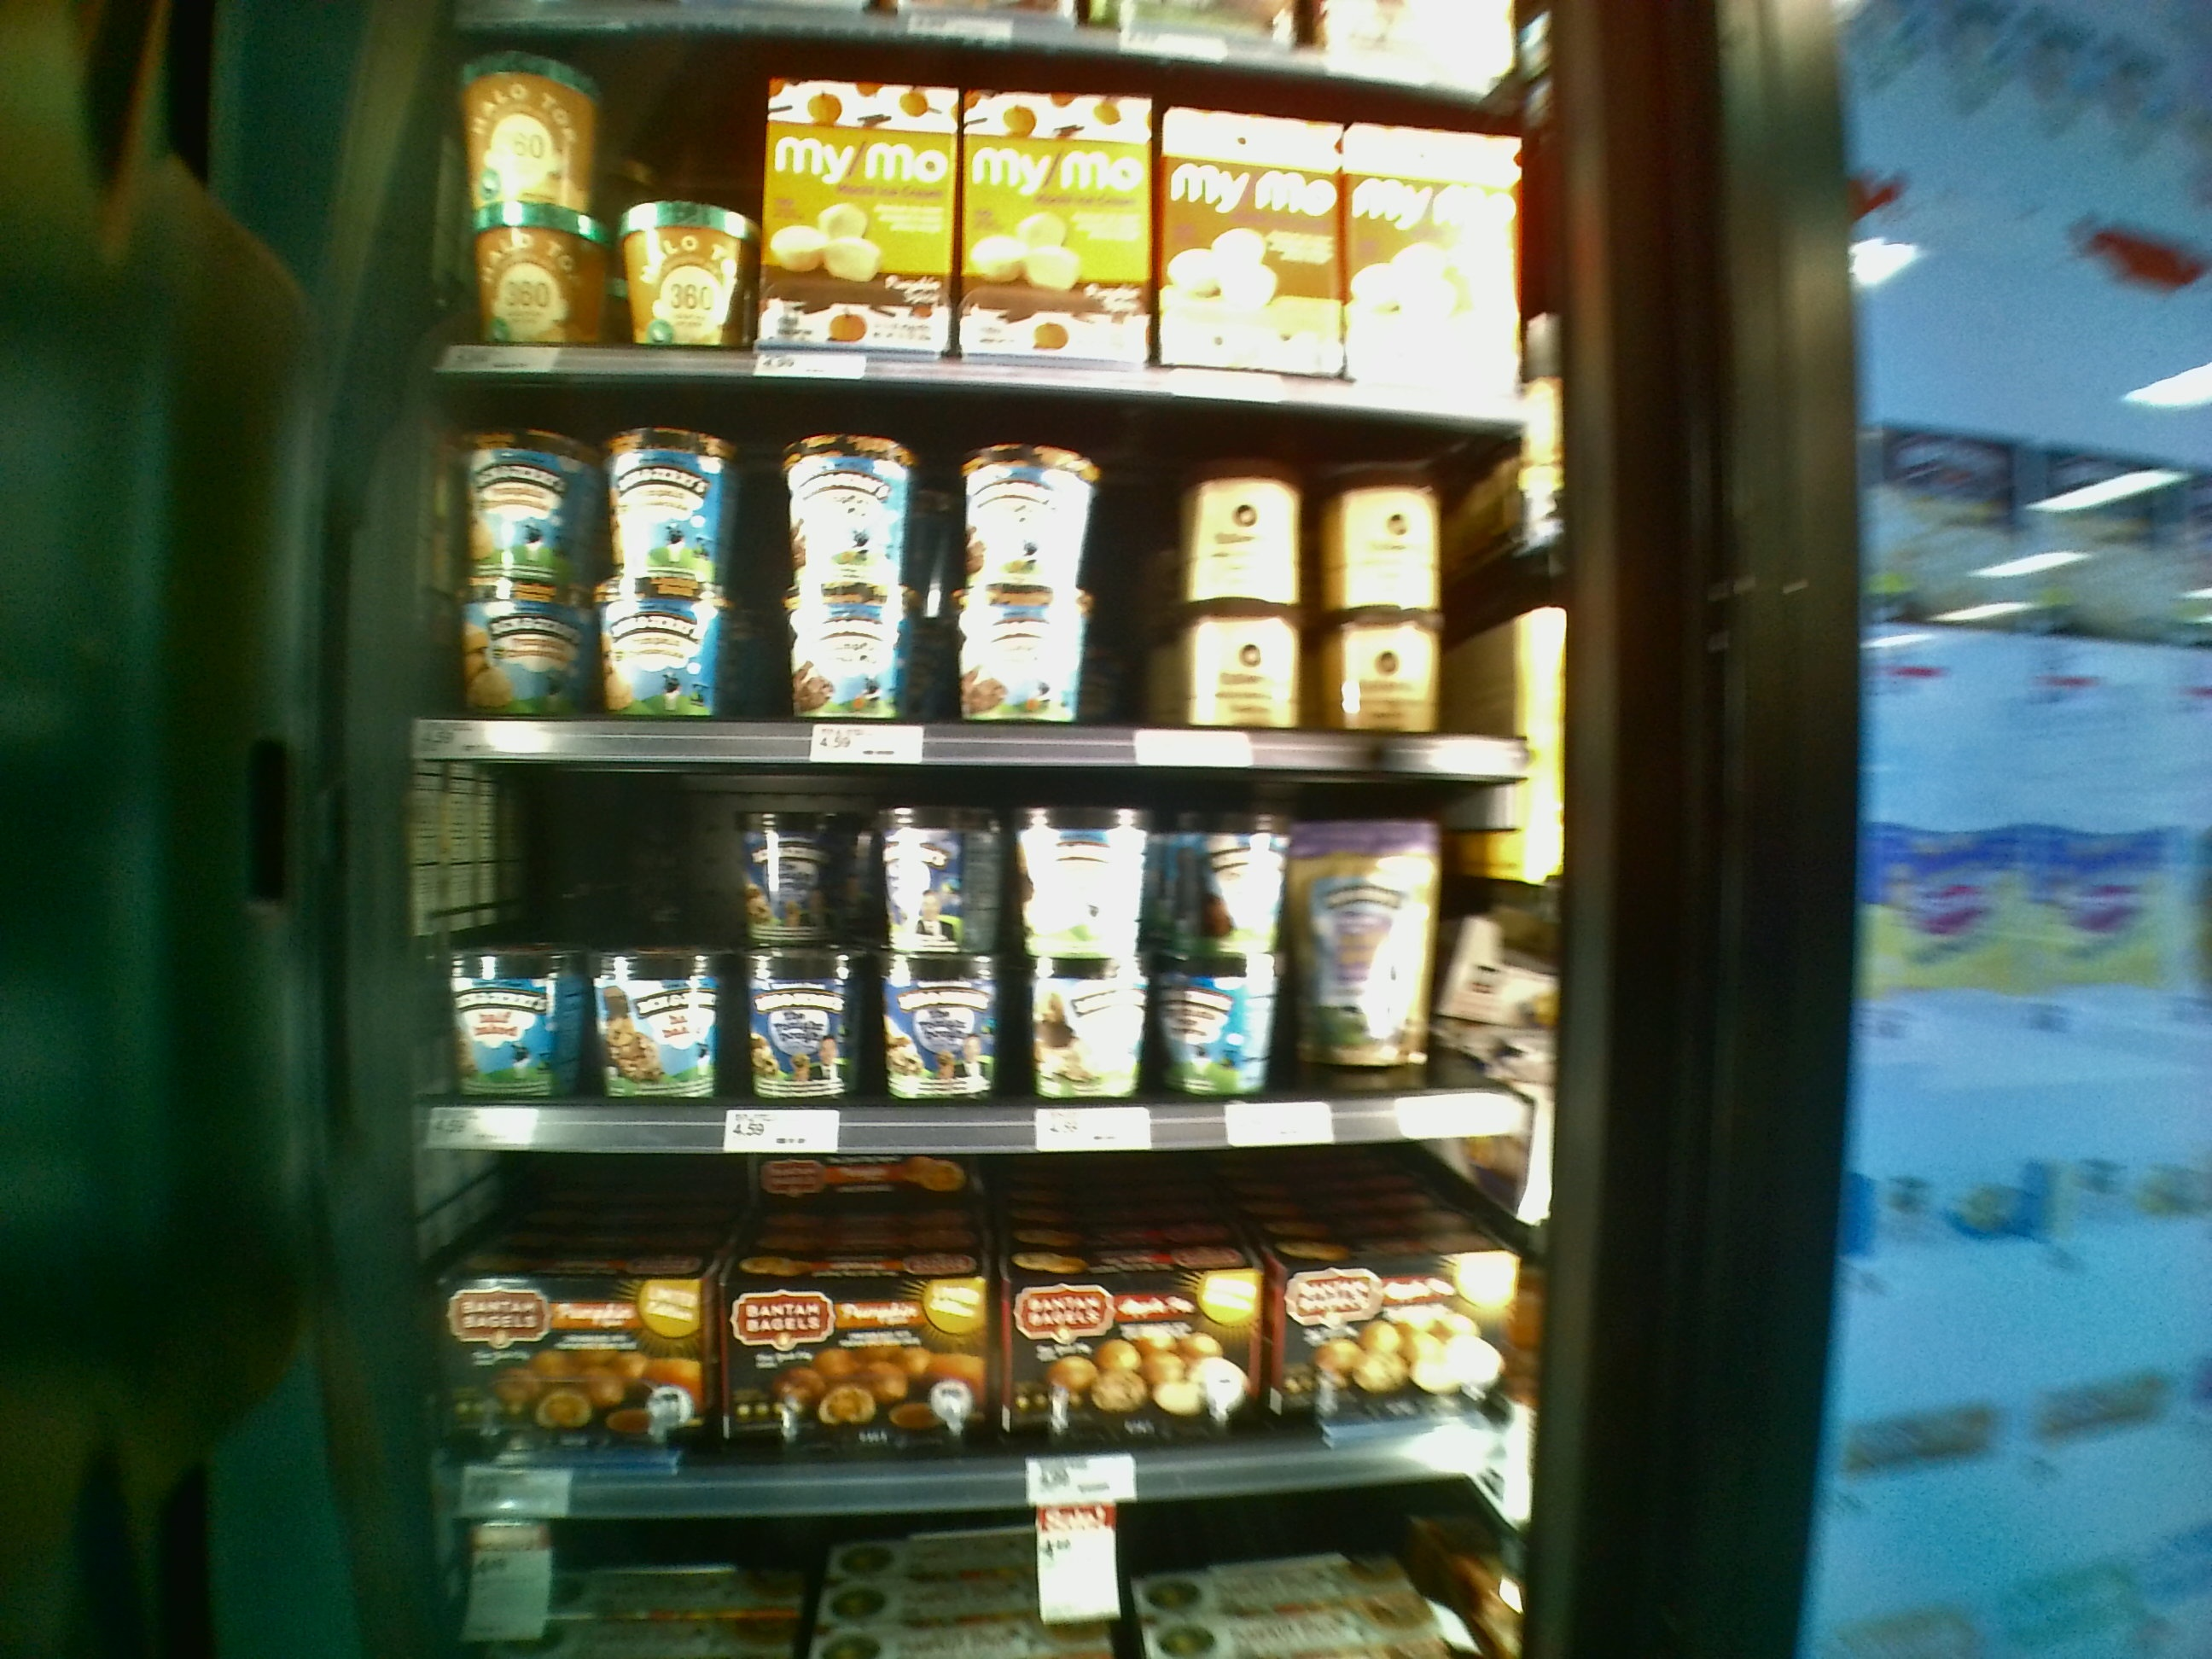shelf: (418, 354, 1566, 784), (402, 748, 1561, 1159), (409, 1159, 1508, 1511)
